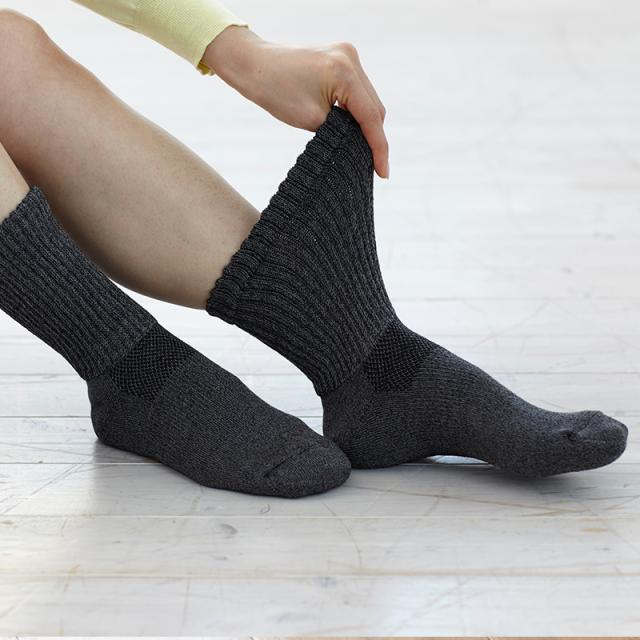sock: (205, 103, 628, 479), (0, 184, 352, 499)
